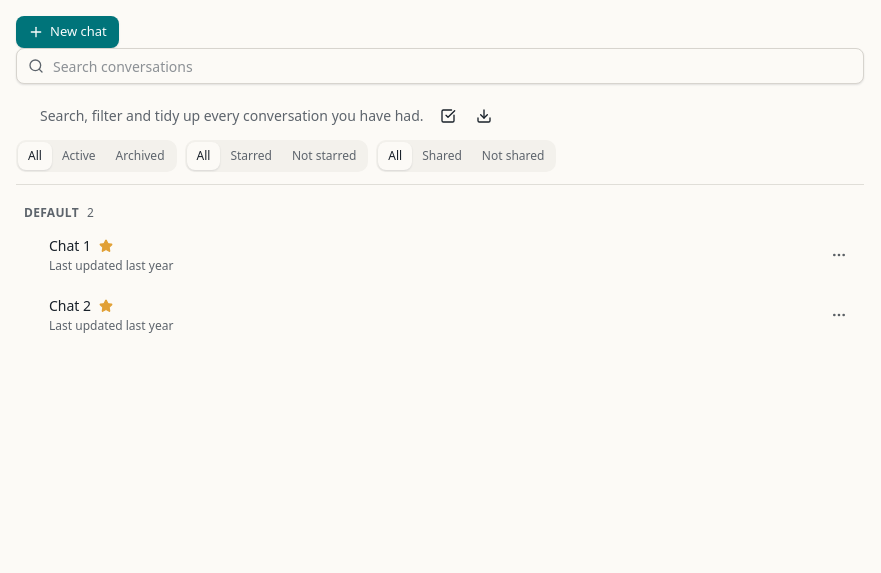
Test case: RecentPage row actions › removes a row that no longer matches the star filter
Expected: the text "Chat 1" is shown, [49,236,91,256]
Click the radio button labelled "Starred".
click(251, 156)  # box [220,142,282,170]
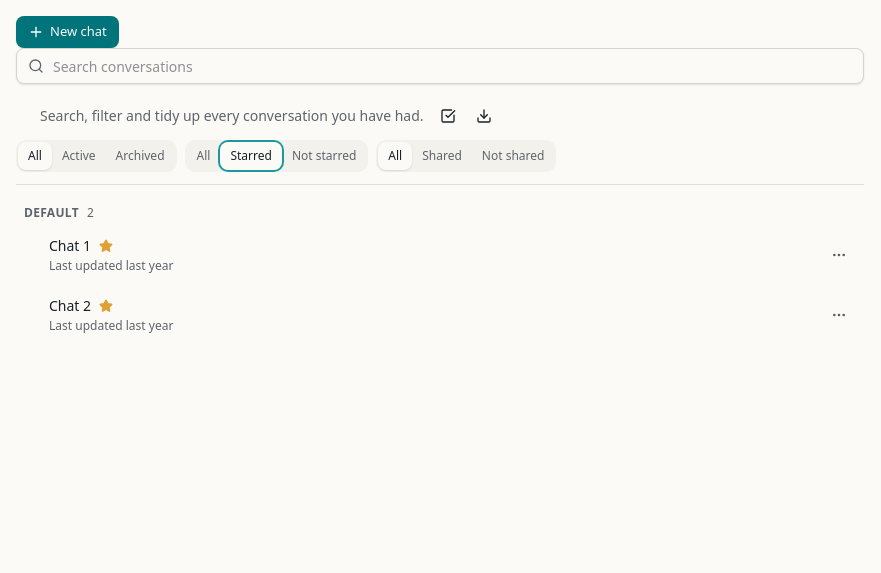
Expected: the text "Chat 1" is shown, [49,236,91,256]
Click the button named "Conversation actions" in the row of "Chat 1".
click(839, 255)  # box [823,239,855,271]
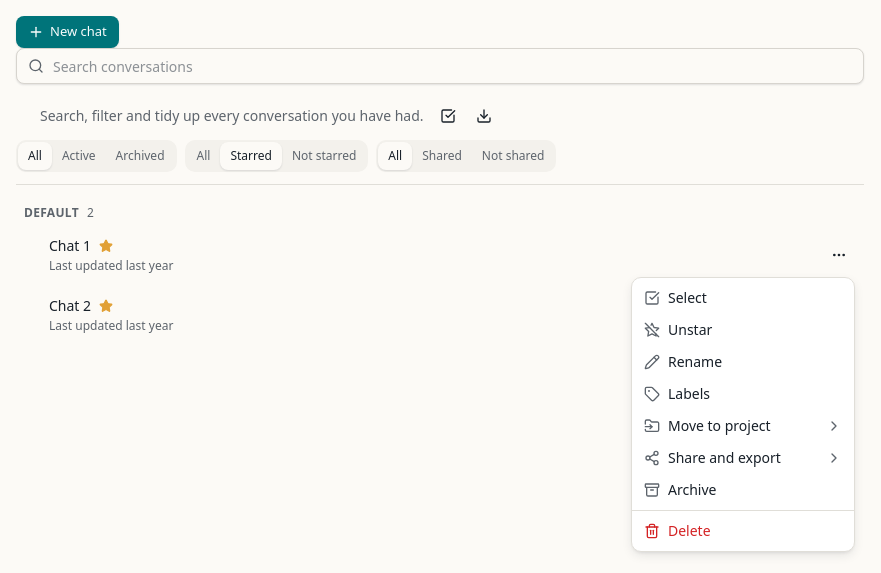
Click the menu item "Unstar".
click(678, 330)  # box [644,320,712,339]
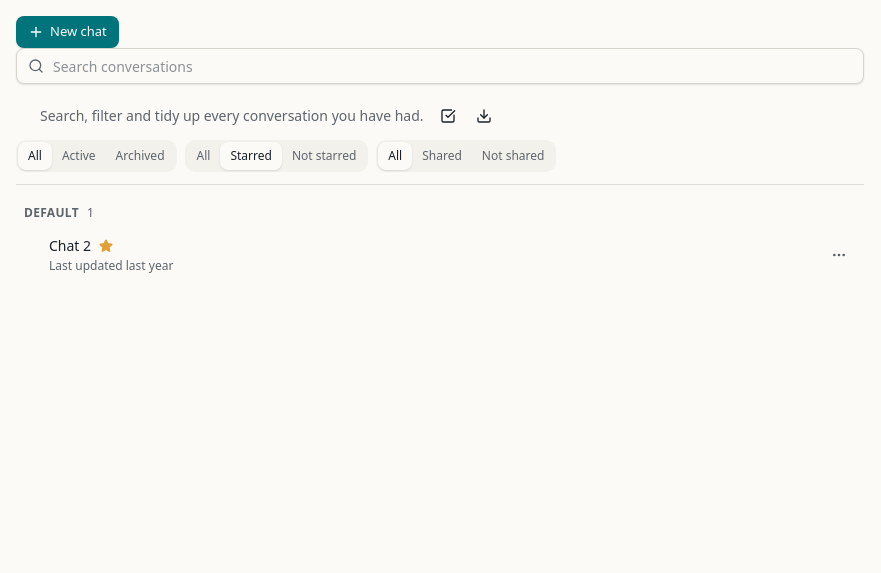
Expected: the text "Chat 2" is shown, [49,236,91,256]
Now the link "Chat 1" is gone
